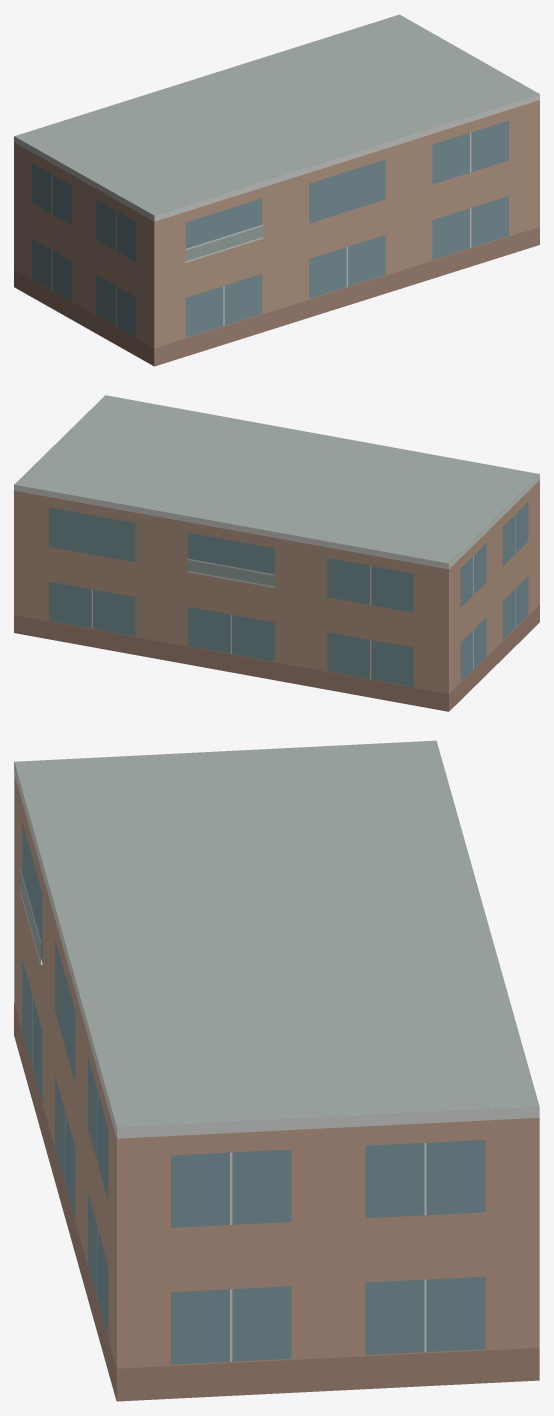
The model's file is survey-upis-32807610.glb.
3 renders of one model, top to bottom at view 1: azimuth 30°, elevation 25°; view 2: azimuth 150°, elevation 25°; view 3: azimuth 270°, elevation 25°, orthographic. The views are drawn at different scales.
Parts seen in each view (by area): view 1: survey-upis-32807610.tmp; view 2: survey-upis-32807610.tmp; view 3: survey-upis-32807610.tmp.
Boxes of the visible parts, bbox=[...] form: survey-upis-32807610.tmp: bbox=[14, 14, 539, 366]; survey-upis-32807610.tmp: bbox=[14, 395, 539, 711]; survey-upis-32807610.tmp: bbox=[14, 740, 539, 1401].
Size of the model in its own units: 18.53 by 6.1 by 10.63.
